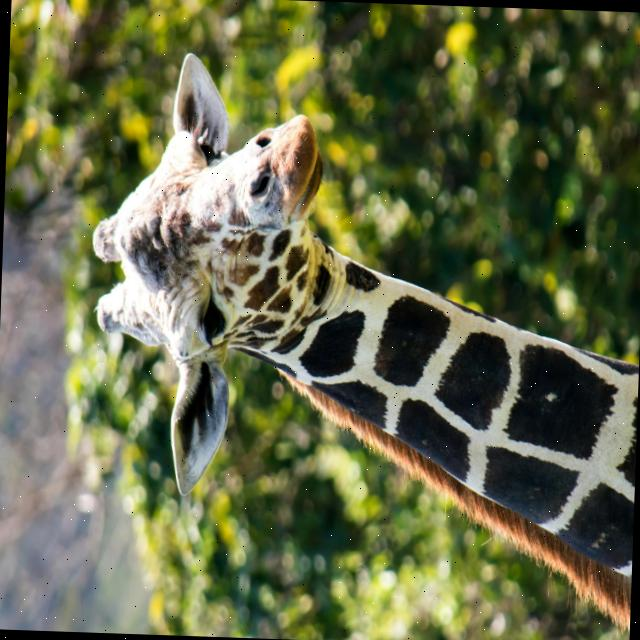Giraffe: (71, 48, 640, 637)
